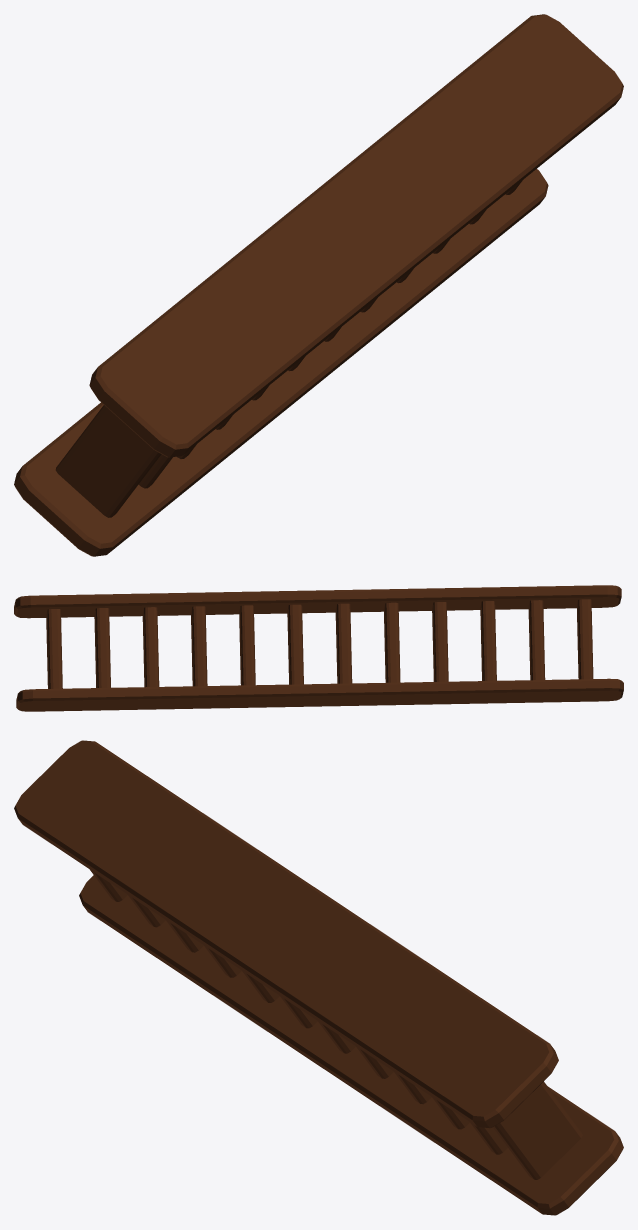
The model's file is ladder5.glb.
3 renders of one model, top to bottom at view 1: azimuth 30°, elevation 25°; view 2: azimuth 150°, elevation 25°; view 3: azimuth 270°, elevation 25°, orthographic. The views are drawn at different scales.
Parts seen in each view (by area): view 1: Cube.027, Cube.025, Cube.026; view 2: Cube.026, Cube.025, Cube.027; view 3: Cube.027, Cube.025, Cube.026.
Part boxes in pixels (box(x1,y1,x2,y2)): Cube.027: box(89, 14, 623, 457); Cube.025: box(14, 169, 548, 556); Cube.026: box(55, 180, 522, 517); Cube.026: box(46, 599, 593, 688); Cube.025: box(16, 678, 623, 711); Cube.027: box(14, 585, 621, 618); Cube.027: box(14, 740, 558, 1128); Cube.025: box(79, 875, 623, 1215); Cube.026: box(90, 870, 582, 1179).
Size of the model in its own units: 0.6009 by 0.1362 by 0.4421.
